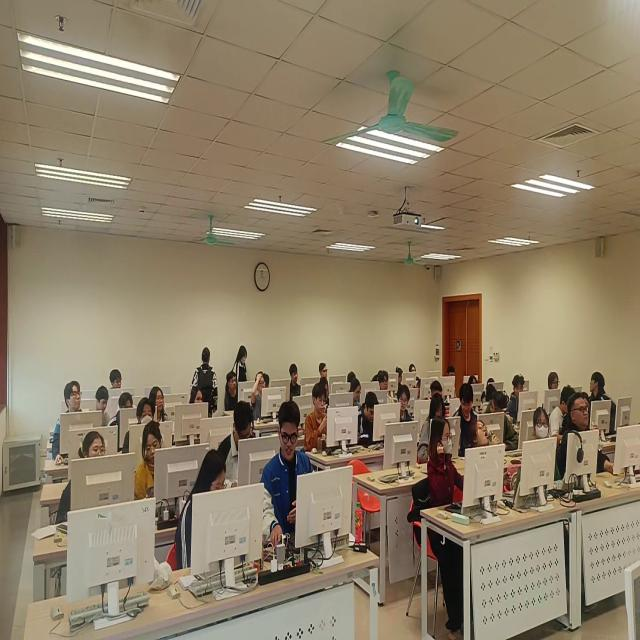raise_head: (57, 434, 119, 527), (564, 398, 621, 481), (429, 417, 463, 534), (52, 379, 94, 467), (470, 421, 513, 494), (533, 408, 560, 486), (128, 402, 160, 457), (253, 372, 281, 425), (394, 387, 417, 434), (151, 388, 169, 423), (547, 373, 564, 409), (380, 373, 394, 404), (190, 386, 204, 415), (110, 369, 125, 393), (319, 361, 331, 386)
stand: (191, 349, 218, 420), (232, 346, 249, 409)
using_computer: (259, 402, 321, 564), (176, 456, 239, 578), (135, 421, 180, 520), (355, 394, 385, 449), (510, 375, 538, 423), (111, 395, 134, 440), (95, 389, 113, 432), (290, 367, 313, 400), (225, 373, 242, 416), (349, 382, 369, 411), (444, 367, 460, 402)
using_phone: (307, 387, 335, 454)
